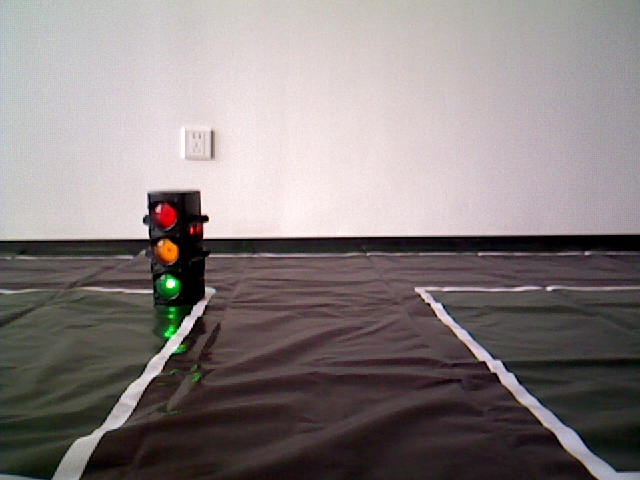green: (146, 193, 200, 297)
